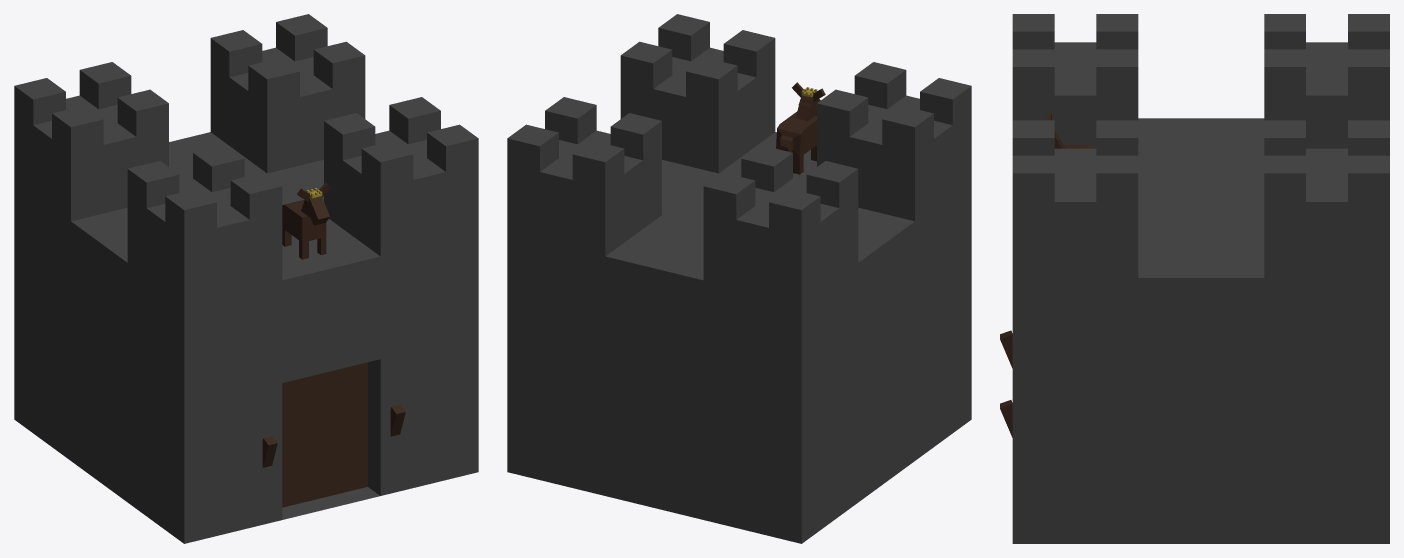
The model's file is Castle.fbx.
3 renders of one model, left to right at view 1: azimuth 30°, elevation 25°; view 2: azimuth 150°, elevation 25°; view 3: azimuth 270°, elevation 25°, orthographic. The views are drawn at different scales.
Visible parts, largest first — view 1: Castle; view 2: Castle; view 3: Castle.
Boxes of the visible parts, x1=… form: Castle: x1=14, y1=14, x2=478, y2=543; Castle: x1=507, y1=14, x2=971, y2=543; Castle: x1=1000, y1=14, x2=1389, y2=543.
Size of the model in its own units: 413 by 433 by 400.
